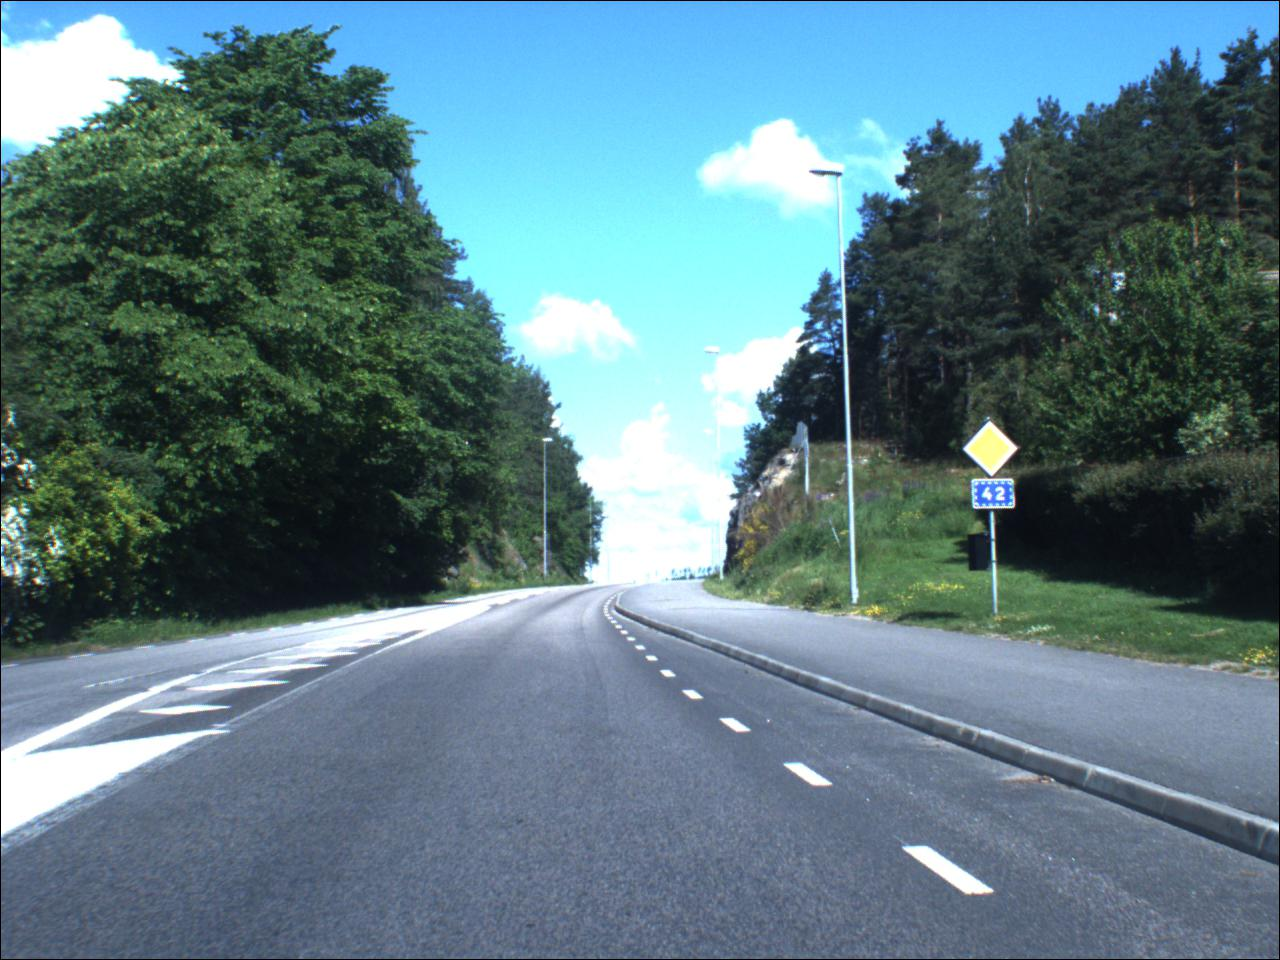PRIORITY_ROAD: (963, 422, 1021, 479)
